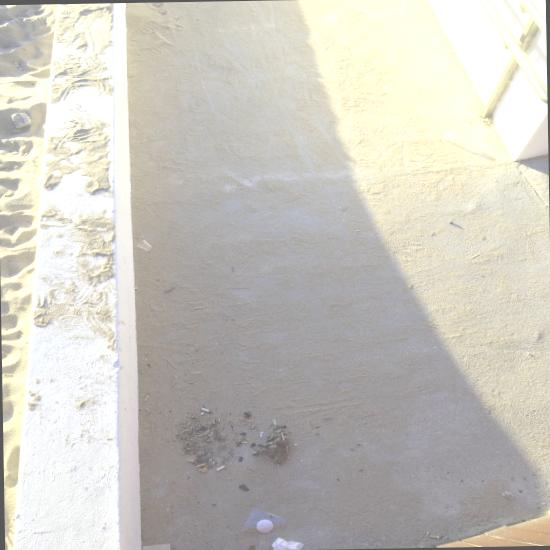Cigarette: (201, 407, 211, 412), (217, 465, 225, 470), (198, 467, 207, 471), (204, 429, 210, 435), (144, 394, 149, 401), (197, 463, 205, 467), (429, 535, 439, 538), (202, 469, 208, 472), (134, 284, 137, 290), (199, 412, 204, 415), (187, 459, 194, 461)
Disposable plastic cup: (137, 239, 152, 250), (442, 131, 456, 141)
Normal paper: (271, 537, 304, 550)
Plastic film: (230, 507, 286, 550)
